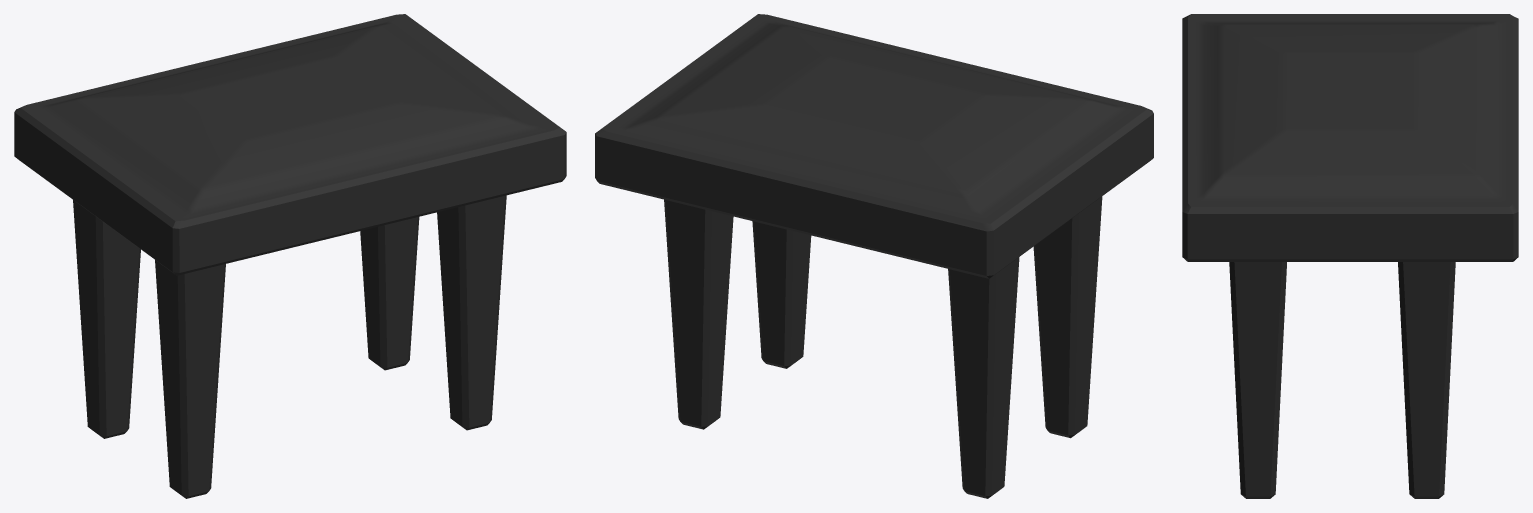
Rendered from piano chair.fbx.
The picture shows the model from 3 angles, left to right: view 1: azimuth 30°, elevation 25°; view 2: azimuth 150°, elevation 25°; view 3: azimuth 270°, elevation 25°; orthographic projection. The views are drawn at different scales.
Parts seen in each view (by area): view 1: polySurface375; view 2: polySurface375; view 3: polySurface375.
Boxes of the visible parts, x1,y1,x2,y2 form: polySurface375: (14, 14, 566, 498); polySurface375: (595, 14, 1153, 498); polySurface375: (1182, 14, 1518, 498).
Bounding box in the file's own units: 0.5577 × 0.4402 × 0.4004.
Materials: 1 (1 with a texture image).
